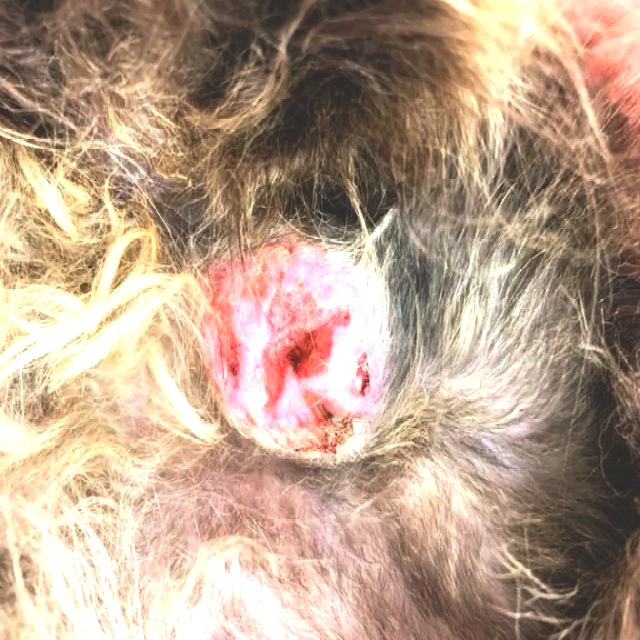lump_and_bump: (202, 237, 397, 489)
